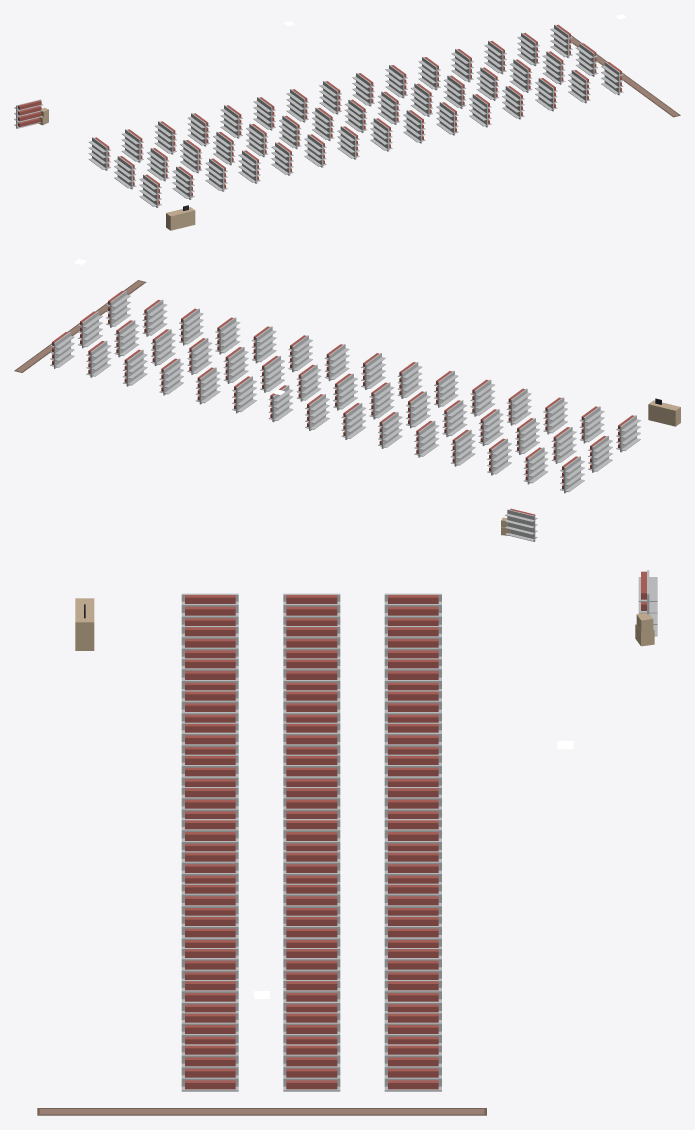
File: fine-s0.glb
3 renders of one model, top to bottom at view 1: azimuth 30°, elevation 25°; view 2: azimuth 150°, elevation 25°; view 3: azimuth 270°, elevation 25°, orthographic. The views are drawn at different scales.
Parts seen in each view (by area): view 1: shelving.000, soft-s0, shop-counter.000, shelf.015, shelf.023, shelf.029, shelf.040, shelf.003, shelf.017, shelf.018, shelf.020, shelf.038 (+36 smaller); view 2: shelving.000, shop-counter.000, shelf.009, shelf.011, shelf.013, shelf.036, shelf.004, shelf.026, shelf.035, shelf.005, shelf.015, shelf.031 (+36 smaller); view 3: soft-s0, shelf.042, shelf.043, shelf.044, shelf.009, shelf.010, shelf.011, shelf.024, shelf.025, shelf.026, shelf.000, shelf.001 (+36 smaller).
Boxes of the visible parts, x1,y1,x2,y2 form: shelving.000: [14, 99, 43, 128]; soft-s0: [570, 35, 680, 117]; shop-counter.000: [166, 205, 195, 230]; shelf.015: [253, 97, 275, 130]; shelf.023: [370, 118, 392, 151]; shelf.029: [436, 102, 458, 135]; shelf.040: [542, 51, 565, 84]; shelf.003: [121, 129, 143, 162]; shelf.017: [304, 134, 326, 167]; shelf.018: [286, 89, 308, 122]; shelf.020: [337, 126, 359, 159]; shelf.038: [535, 78, 557, 111]; shelving.000: [505, 508, 537, 541]; shop-counter.000: [648, 398, 680, 426]; shelf.009: [450, 429, 475, 466]; shelf.011: [506, 388, 531, 425]; shelf.013: [442, 400, 467, 437]; shelf.036: [123, 349, 147, 386]; shelf.004: [551, 427, 576, 463]; shelf.026: [324, 344, 349, 381]; shelf.035: [215, 317, 240, 354]; shelf.005: [579, 406, 604, 443]; shelf.015: [378, 411, 402, 448]; shelf.031: [223, 347, 248, 383]; soft-s0: [37, 1108, 486, 1115]; shelf.042: [384, 1044, 441, 1091]; shelf.043: [283, 1044, 340, 1091]; shelf.044: [181, 1044, 238, 1091]; shelf.009: [384, 690, 441, 722]; shelf.010: [283, 690, 340, 722]; shelf.011: [181, 690, 238, 722]; shelf.024: [384, 851, 441, 883]; shelf.025: [283, 851, 340, 883]; shelf.026: [181, 851, 238, 883]; shelf.000: [384, 593, 441, 625]; shelf.001: [283, 593, 340, 625].
Bounding box in the file's own units: 37.25 × 4.1 × 19.55.
